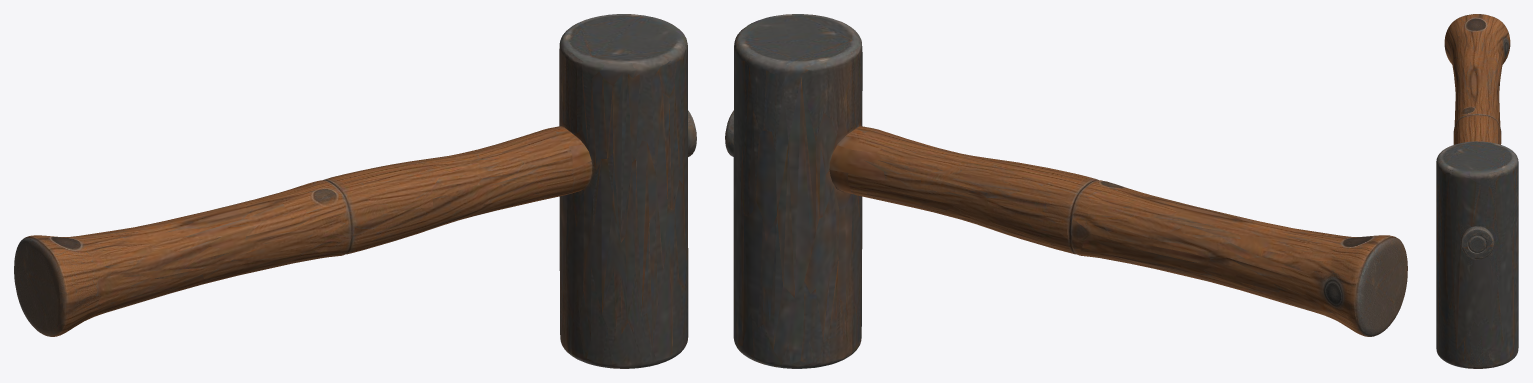
File: hammer.glb
The picture shows the model from 3 angles, left to right: view 1: azimuth 30°, elevation 25°; view 2: azimuth 150°, elevation 25°; view 3: azimuth 270°, elevation 25°; orthographic projection. The views are drawn at different scales.
Size of the model in its own units: 1.9 by 0.859 by 0.3265.
1 material, 1 textured.
